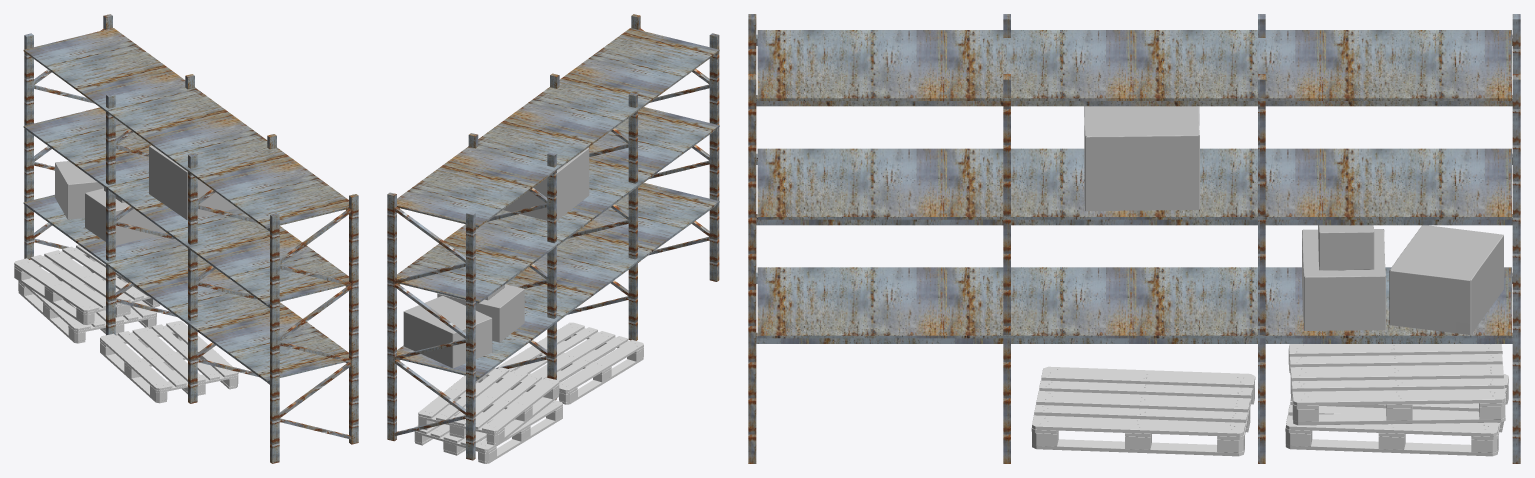
The model's file is shelf freezer 1.fbx.
3 renders of one model, left to right at view 1: azimuth 30°, elevation 25°; view 2: azimuth 150°, elevation 25°; view 3: azimuth 270°, elevation 25°, orthographic. The views are drawn at different scales.
Visible parts, largest first — view 1: Shelf Freezer2.003, EURO Pallet-used.005, EURO Pallet-used.004, Box Packaging.023, EURO Pallet-used.001, Box Packaging.015, Box Packaging.019; view 2: Shelf Freezer2.003, EURO Pallet-used.004, EURO Pallet-used.005, Box Packaging.019, EURO Pallet-used.001, Box Packaging.023, Box Packaging.015; view 3: Shelf Freezer2.003, EURO Pallet-used.005, EURO Pallet-used.004, Box Packaging.023, Box Packaging.019, EURO Pallet-used.001, Box Packaging.015, Box Packaging.020.
Part boxes in pixels (box(x1,y1,x2,y2)): Shelf Freezer2.003: box(23, 14, 358, 463); EURO Pallet-used.005: box(100, 321, 238, 403); EURO Pallet-used.004: box(14, 244, 160, 325); Box Packaging.023: box(149, 145, 236, 220); EURO Pallet-used.001: box(18, 266, 156, 343); Box Packaging.015: box(85, 188, 166, 245); Box Packaging.019: box(55, 161, 103, 219); Shelf Freezer2.003: box(387, 14, 719, 460); EURO Pallet-used.004: box(418, 367, 559, 445); EURO Pallet-used.005: box(495, 322, 643, 404); Box Packaging.019: box(403, 295, 492, 368); EURO Pallet-used.001: box(414, 382, 562, 463); Box Packaging.023: box(503, 147, 589, 220); Box Packaging.015: box(437, 284, 524, 342); Shelf Freezer2.003: box(748, 14, 1520, 463); EURO Pallet-used.005: box(1031, 366, 1255, 456); EURO Pallet-used.004: box(1288, 344, 1506, 425); Box Packaging.023: box(1084, 106, 1199, 211); Box Packaging.019: box(1389, 225, 1503, 334); EURO Pallet-used.001: box(1285, 374, 1508, 456); Box Packaging.015: box(1302, 229, 1385, 330); Box Packaging.020: box(1318, 225, 1374, 270).
Size of the model in its own units: 125 by 280 by 500.
